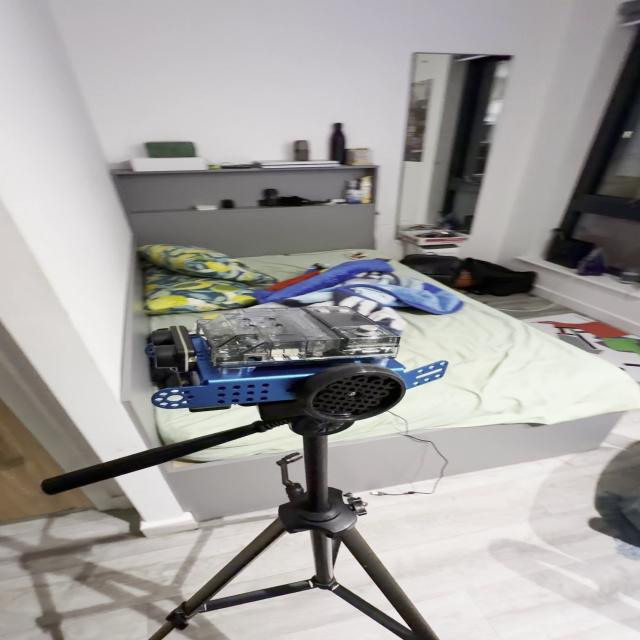mbot-detection: (142, 301, 456, 427)
